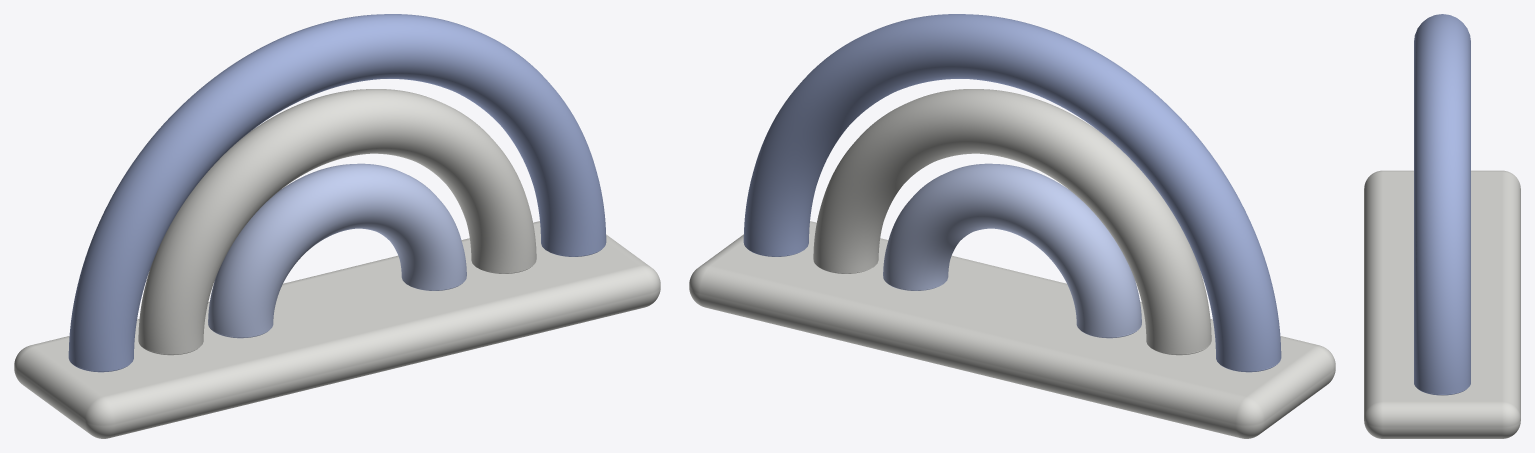
File: ceramic-rainbow.glb
3 renders of one model, left to right at view 1: azimuth 30°, elevation 25°; view 2: azimuth 150°, elevation 25°; view 3: azimuth 270°, elevation 25°, orthographic. The views are drawn at different scales.
Visible parts, largest first — view 1: complete-sculpture-002, complete-sculpture-001, complete-sculpture-005, complete-sculpture-008; view 2: complete-sculpture-002, complete-sculpture-001, complete-sculpture-005, complete-sculpture-008; view 3: complete-sculpture-001, complete-sculpture-002.
Boxes of the visible parts, box(x1,y1,x2,y2) form: complete-sculpture-002: box(68, 14, 606, 371); complete-sculpture-001: box(14, 221, 660, 438); complete-sculpture-005: box(138, 89, 536, 354); complete-sculpture-008: box(208, 163, 466, 337); complete-sculpture-002: box(743, 14, 1281, 371); complete-sculpture-001: box(689, 221, 1335, 438); complete-sculpture-005: box(813, 89, 1211, 354); complete-sculpture-008: box(883, 163, 1141, 337); complete-sculpture-001: box(1364, 170, 1520, 438); complete-sculpture-002: box(1414, 14, 1470, 394).
Size of the model in its own units: 2 by 1.08 by 0.5405.
